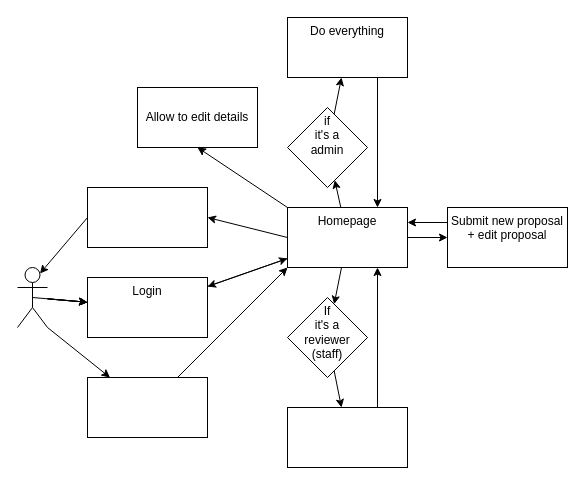
The diagram is 585 pixels wide and 485 high, and some of its shapes have lost their labels. The centre of each missing label's shape, as x and y in pixels:
"Actor" belongs at [32,297].
"Logout" belongs at [147,217].
"Register part 1 and 2" belongs at [147,407].
"Review submitted proposals" belongs at [347,437].
